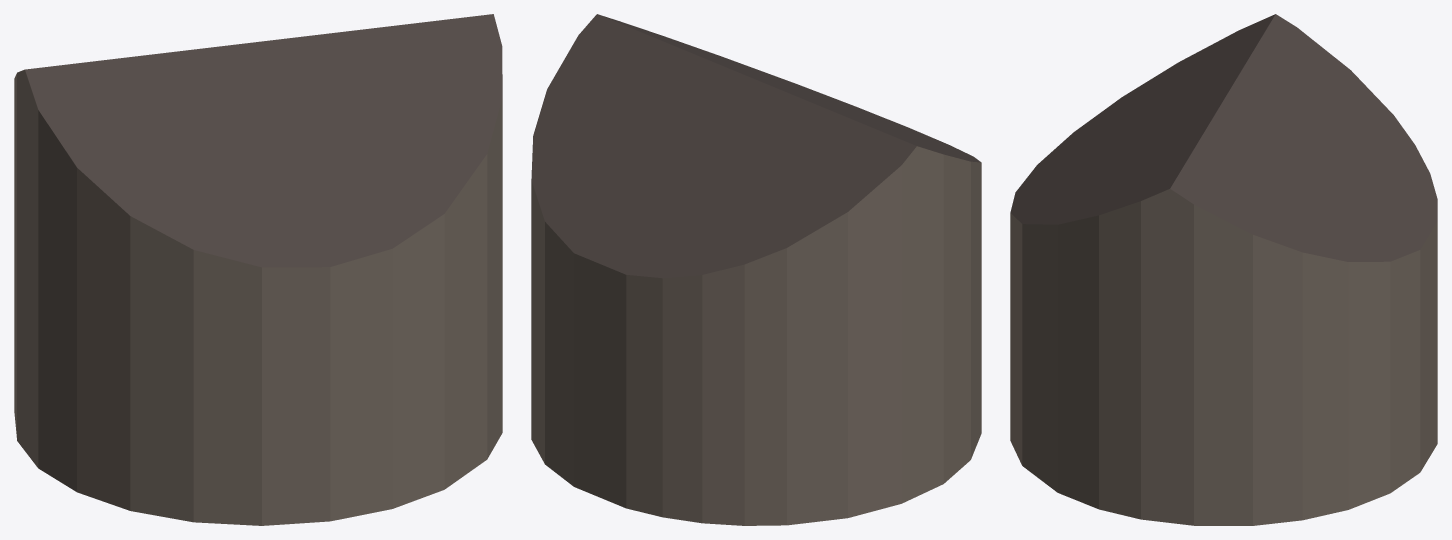
3 renders of one model, left to right at view 1: azimuth 30°, elevation 25°; view 2: azimuth 150°, elevation 25°; view 3: azimuth 270°, elevation 25°, orthographic. The views are drawn at different scales.
Visible parts, largest first — view 1: HP-w1198569402; view 2: HP-w1198569402; view 3: HP-w1198569402.
Part boxes in pixels (x1,y1,x2,y2): HP-w1198569402: (14,14,502,525); HP-w1198569402: (531,14,981,525); HP-w1198569402: (1010,14,1437,525).
Size of the model in its own units: 10.45 by 9 by 10.42.
